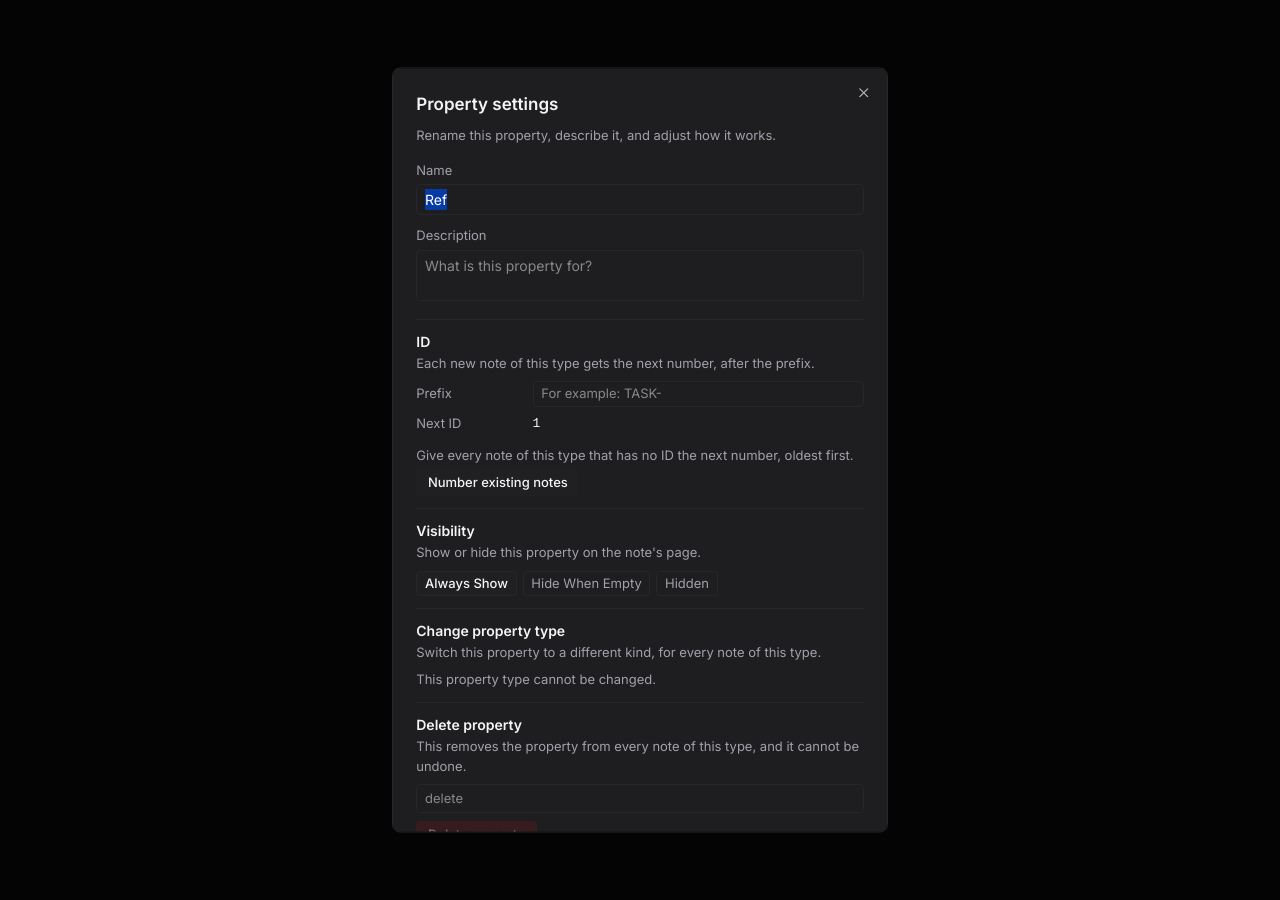
Scenario: UniqueIdSection › skipped files are reported
What coordinates should you click on to do the following:
click the button "Number existing notes"
I would click on:
 (498, 482)
Its box is [416,468,579,496].
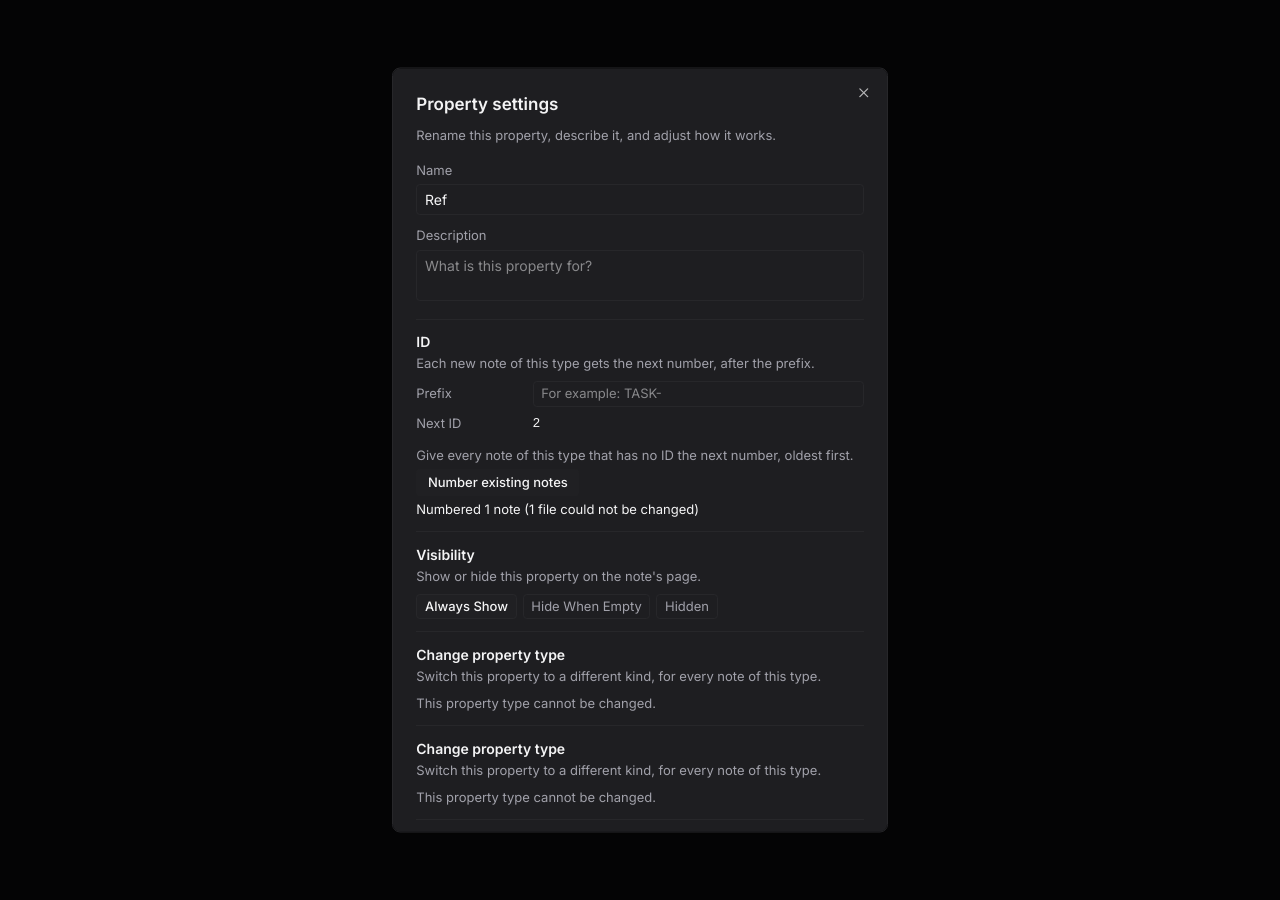
Expected: the text "Numbered 1 note (1 file could not be changed)" is shown, [416,501,699,517]
